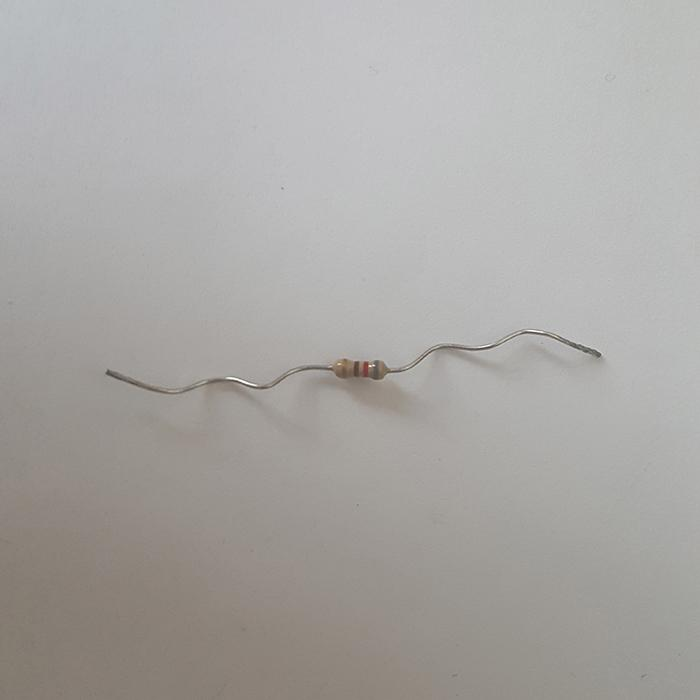resistor: (332, 357, 388, 380)
